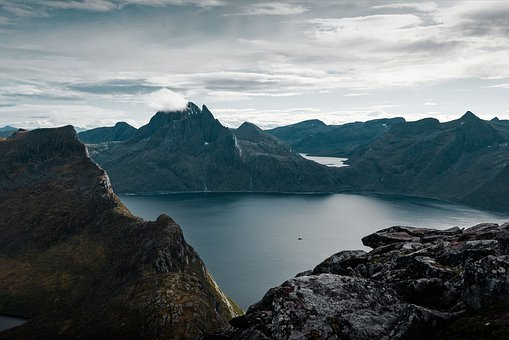lake: (124, 177, 508, 298)
mountain: (7, 128, 239, 336), (44, 97, 504, 197)
sky: (3, 4, 506, 114)
